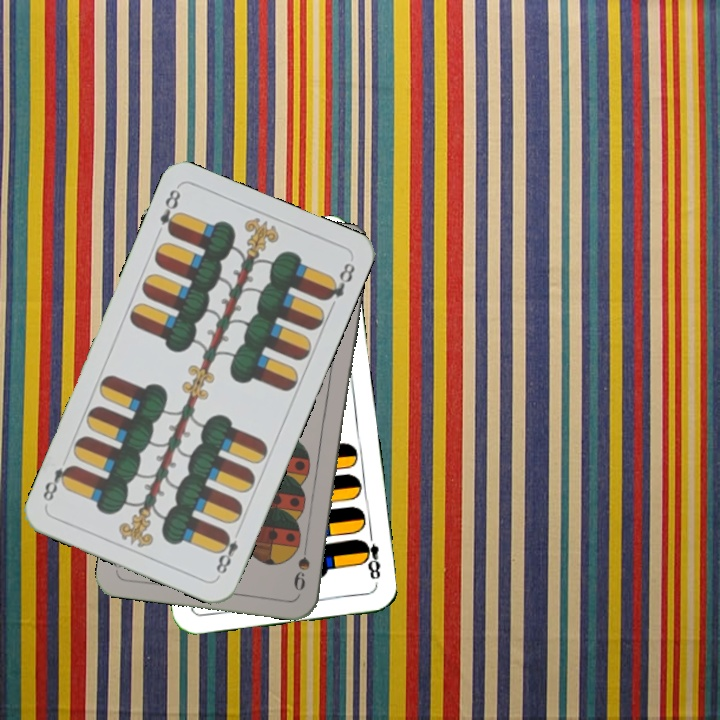E8: (211, 528, 241, 580), (155, 185, 184, 238), (357, 527, 383, 582)
S9: (290, 536, 313, 594)
